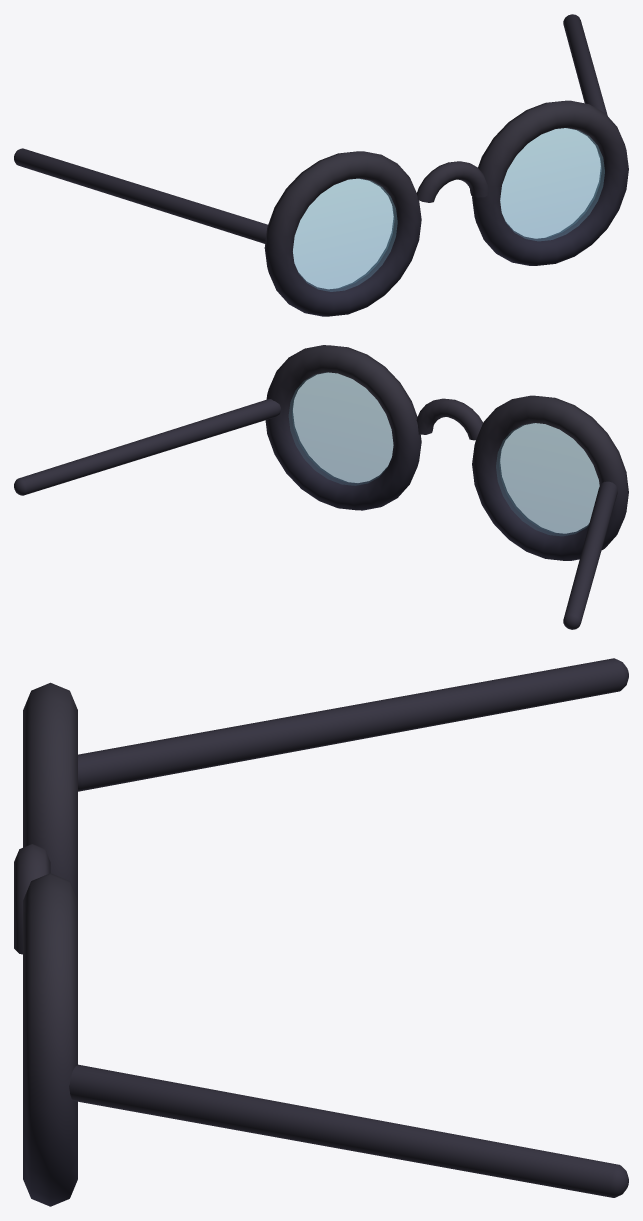
The model's file is acc_glasses.glb.
The picture shows the model from 3 angles, top to bottom: view 1: azimuth 30°, elevation 25°; view 2: azimuth 150°, elevation 25°; view 3: azimuth 270°, elevation 25°; orthographic projection. The views are drawn at different scales.
Parts seen in each view (by area): view 1: Accessory; view 2: Accessory; view 3: Accessory.
Part boxes in pixels (left/top/right/bottom): Accessory: left=14, top=14, right=628, bottom=316; Accessory: left=14, top=345, right=628, bottom=629; Accessory: left=14, top=658, right=628, bottom=1206.
Bounding box in the file's own units: 2.02 × 0.5501 × 1.01.
